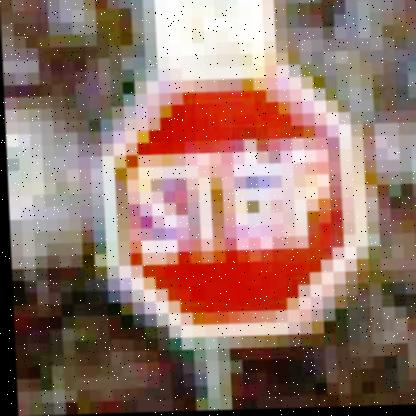Stop Sign: (97, 58, 375, 343)
